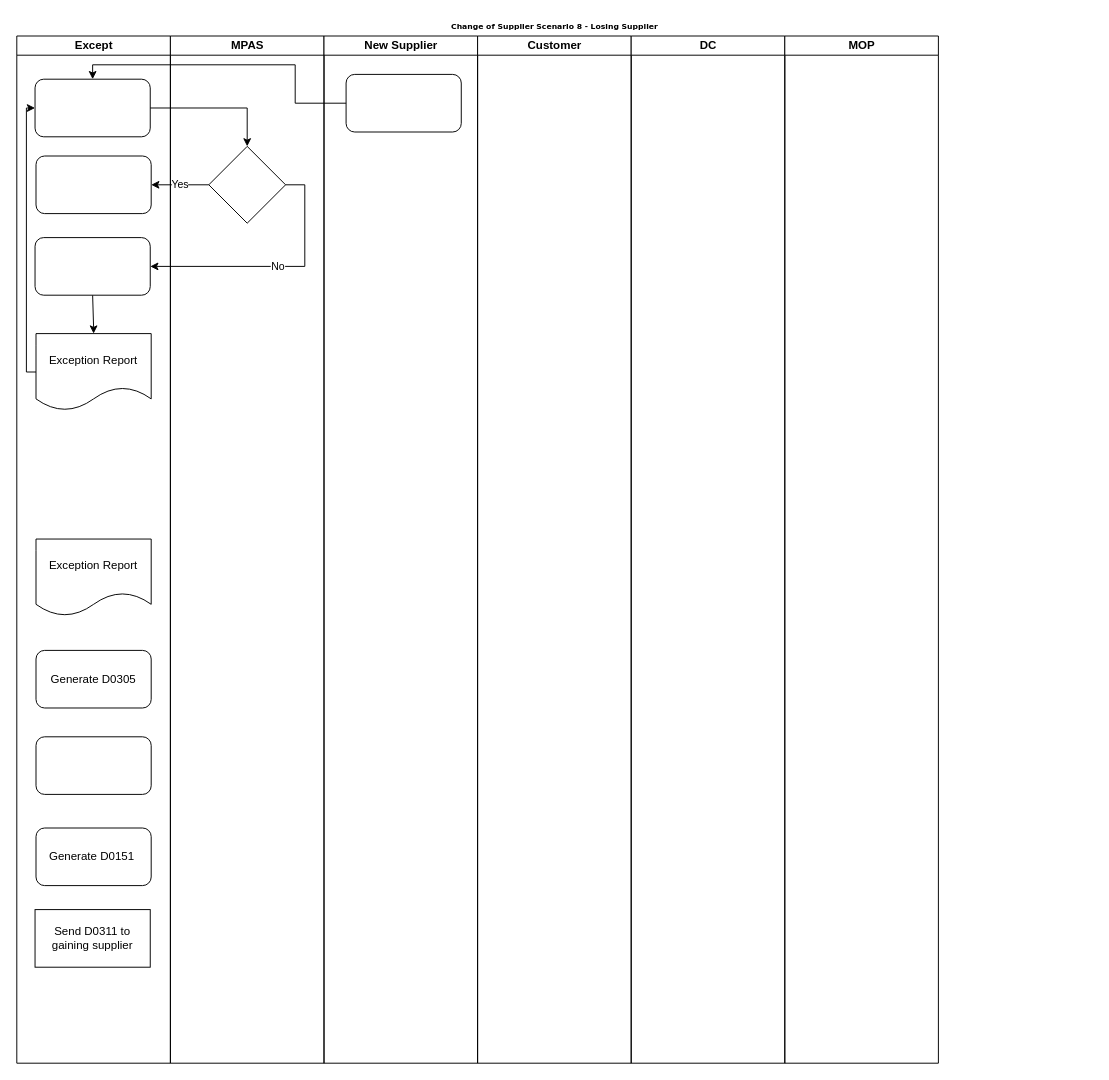
The diagram is 1109 pixels wide and 1080 high, and some of its shapes have lost their labels. The shapes that lost their labels are listed below. From the top down, each one's centre as x and y in pixels, then its label:
At (x=92, y=107): "Generate D0068".
At (x=403, y=102): "Resolves objection".
At (x=93, y=184): "Receive D0090".
At (x=247, y=184): "Accept removal of objection?".
At (x=92, y=266): "Process D0069".
At (x=93, y=765): "Receive D0092".
